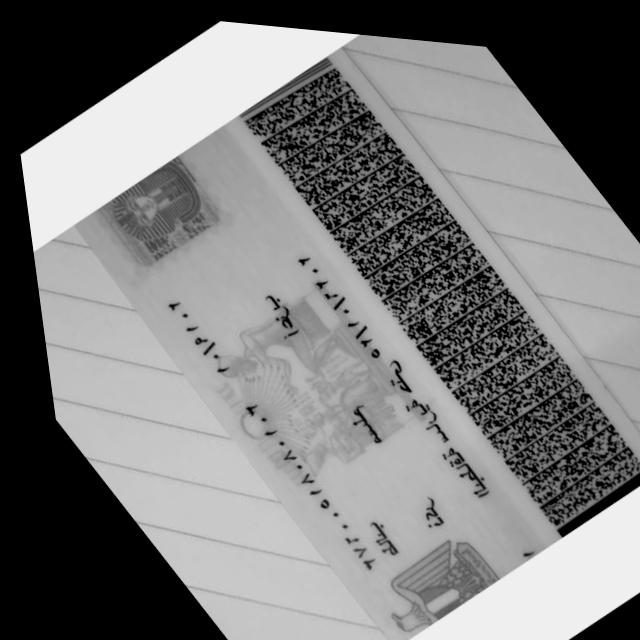id_card: (75, 51, 640, 640)
